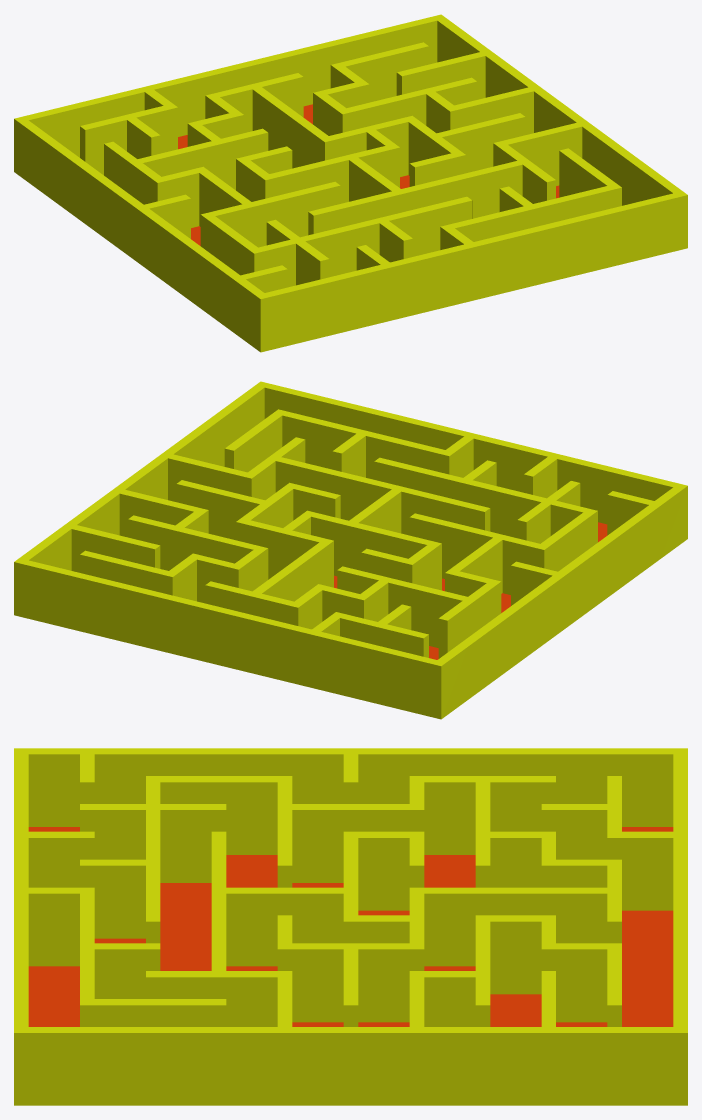
Rendered from Level18Ground.FBX.
3 views of the same model, one above another, from view 1: azimuth 30°, elevation 25°; view 2: azimuth 150°, elevation 25°; view 3: azimuth 270°, elevation 25° (orthographic). The views are drawn at different scales.
Visible parts, largest first — view 1: pPlane2; view 2: pPlane2; view 3: pPlane2.
Boxes of the visible parts, x1,y1,x2,y2 form: pPlane2: (14,14,687,352); pPlane2: (14,381,687,719); pPlane2: (14,748,687,1105).
Size of the model in its own units: 235 by 28 by 235.
